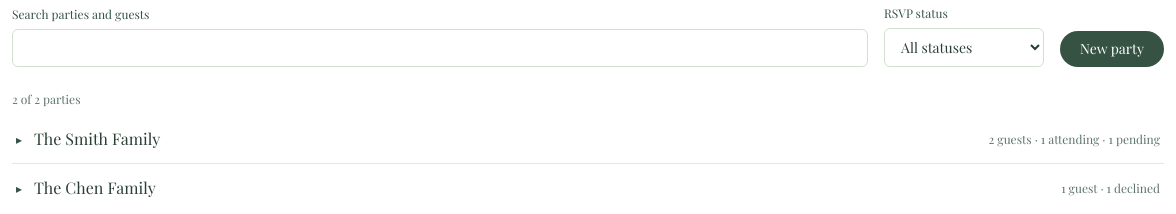
Test: PartyManager › reports when nothing matches the current search
Check: the text "The Smith Family" is shown, box [34,127,160,151]
Step 1. Type "nobody" into the search field labelled "Search parties and guests" → (440, 48), box [12,29,868,67]
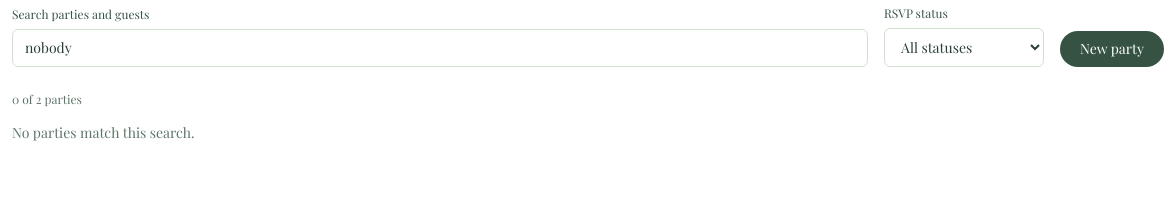
Check: the text "No parties match this search." is shown, box [12,123,195,142]
